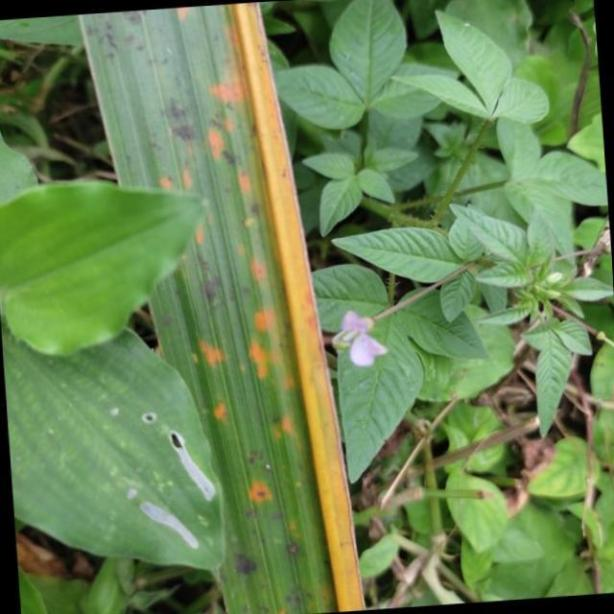Megnesium: (80, 9, 368, 614)
